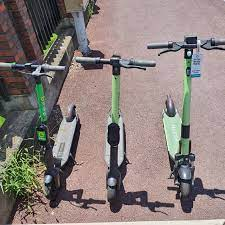kick_board: (147, 35, 225, 203), (73, 54, 158, 201), (1, 61, 79, 205)
kick_body: (165, 115, 187, 157), (107, 117, 125, 165), (55, 120, 73, 163)
kick_handler: (77, 50, 158, 74), (147, 34, 225, 57), (2, 62, 67, 80)
kick_neck: (35, 86, 53, 165), (110, 78, 121, 169), (183, 61, 192, 153)
kick_wheel: (178, 170, 192, 204), (44, 175, 60, 199), (106, 174, 119, 203)
